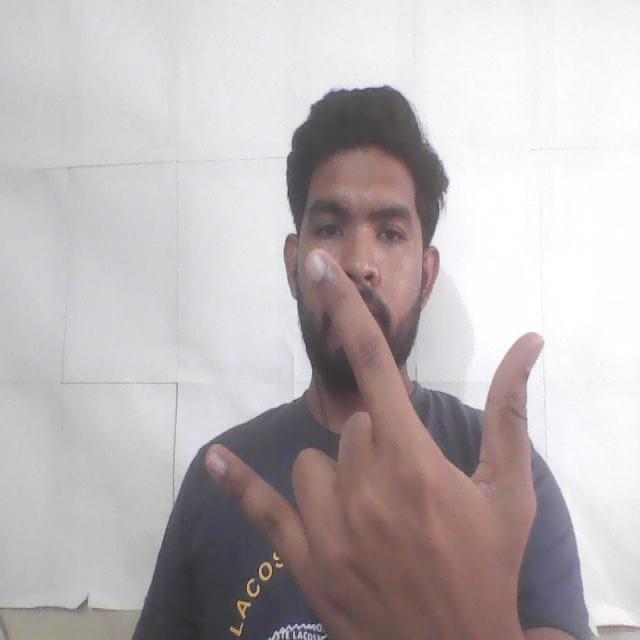ILoveYou: (183, 227, 566, 640)
